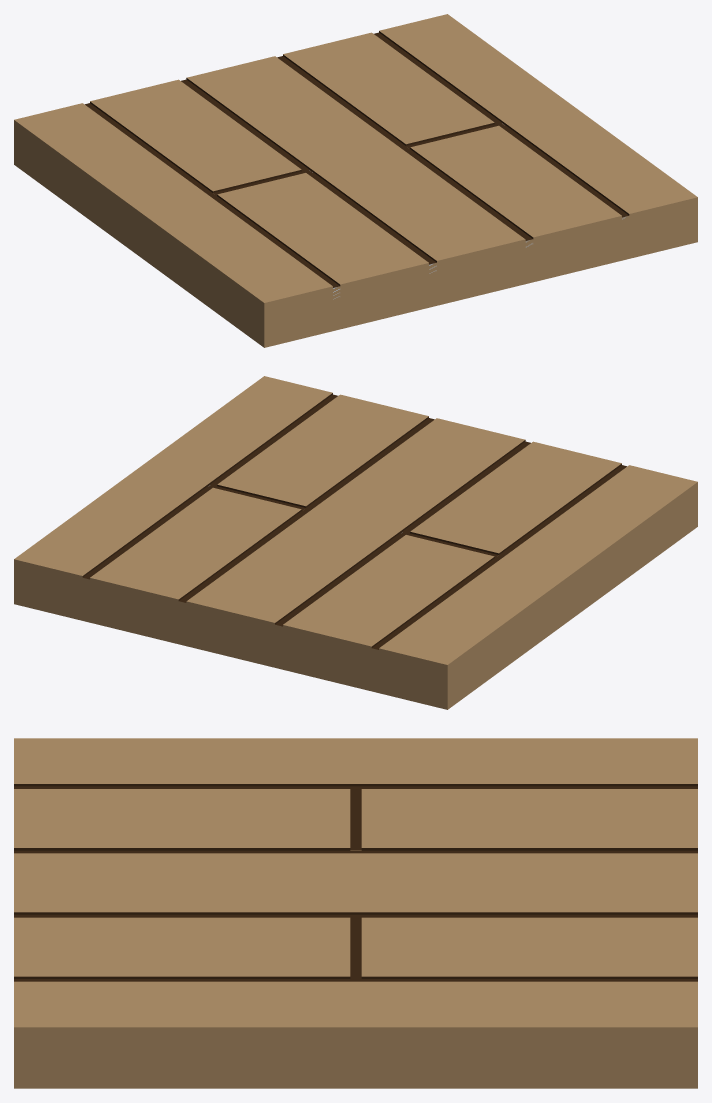
File: FloorTile 1.fbx
3 views of the same model, one above another, from view 1: azimuth 30°, elevation 25°; view 2: azimuth 150°, elevation 25°; view 3: azimuth 270°, elevation 25° (orthographic). The views are drawn at different scales.
Parts seen in each view (by area): view 1: Cube; view 2: Cube; view 3: Cube.
Boxes of the visible parts, <box> form: Cube: <box>14,14,697,347</box>; Cube: <box>14,376,697,709</box>; Cube: <box>14,738,697,1088</box>.
Bounding box in the file's own units: 200 × 19.79 × 200.
